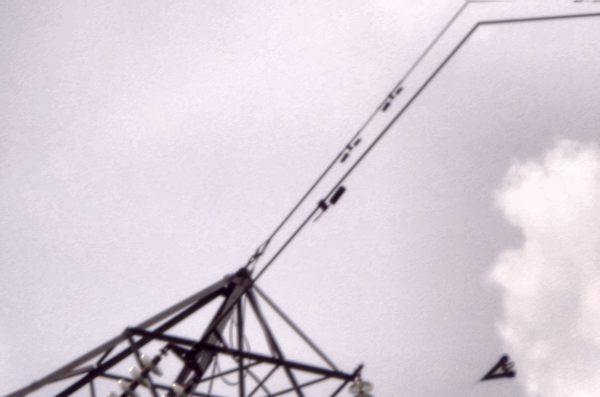damper: (337, 135, 363, 163), (380, 85, 403, 113)
damper_defect: (312, 184, 347, 223)
